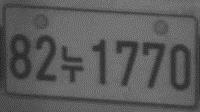0: (171, 43, 192, 90)
1: (92, 35, 107, 86)
2: (37, 34, 57, 82)
7: (115, 38, 138, 87), (142, 41, 165, 87)
8: (10, 32, 32, 80)
누: (60, 43, 83, 83)
